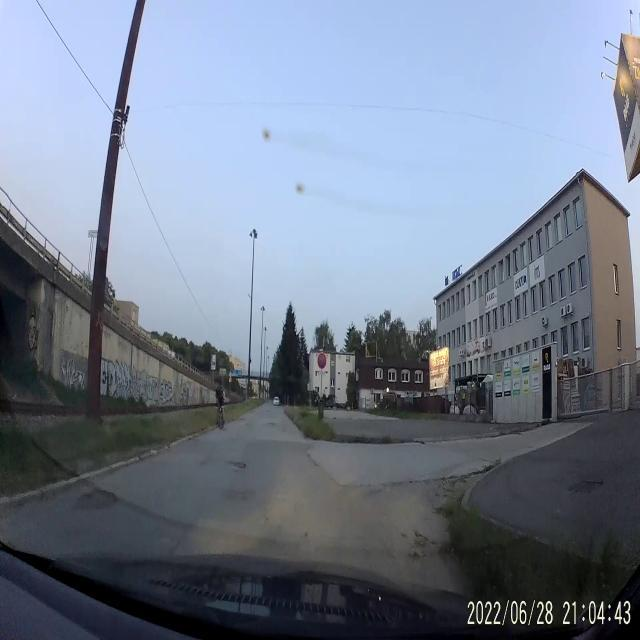Pothole: (74, 482, 119, 511), (224, 456, 248, 474)
